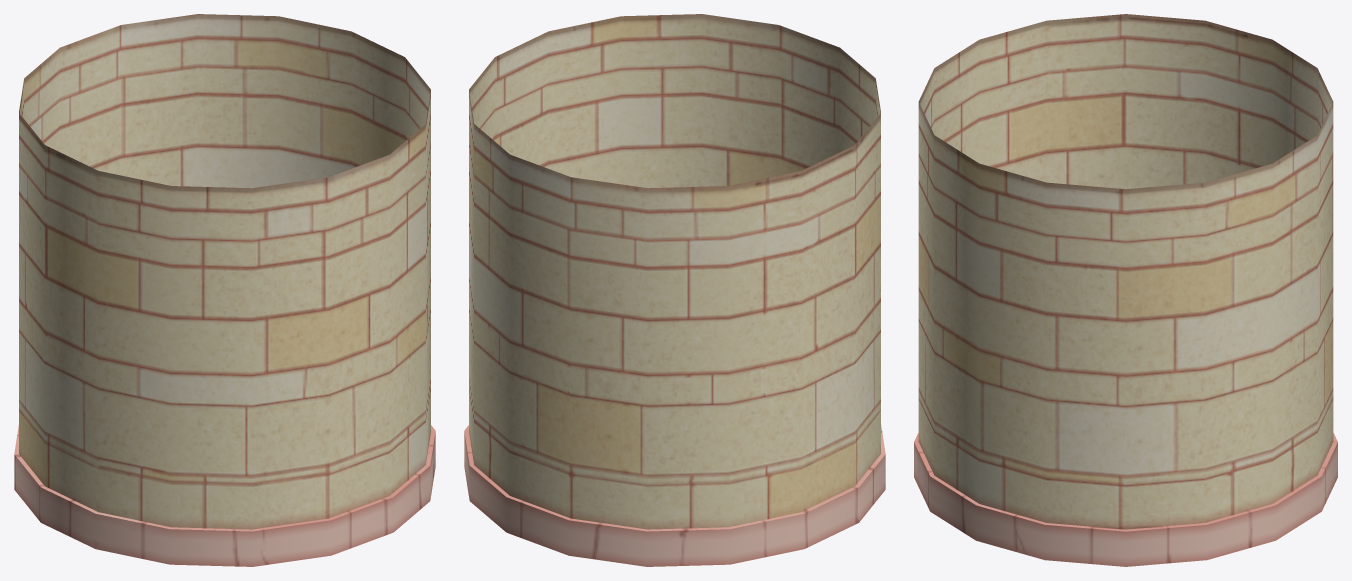
File: sb_obj_outdoor024_PrincessCastle01_CircleWall00.fbx
3 renders of one model, left to right at view 1: azimuth 30°, elevation 25°; view 2: azimuth 150°, elevation 25°; view 3: azimuth 270°, elevation 25°, orthographic.
Parts seen in each view (by area): view 1: sb_obj_outdoor024_PrincessCastle01_CircleWall00; view 2: sb_obj_outdoor024_PrincessCastle01_CircleWall00; view 3: sb_obj_outdoor024_PrincessCastle01_CircleWall00.
Part boxes in pixels (bbox=[...]): sb_obj_outdoor024_PrincessCastle01_CircleWall00: bbox=[14, 14, 435, 566]; sb_obj_outdoor024_PrincessCastle01_CircleWall00: bbox=[464, 14, 885, 566]; sb_obj_outdoor024_PrincessCastle01_CircleWall00: bbox=[914, 14, 1337, 566].
Bounding box in the file's own units: 3.07 × 3 × 3.07.
